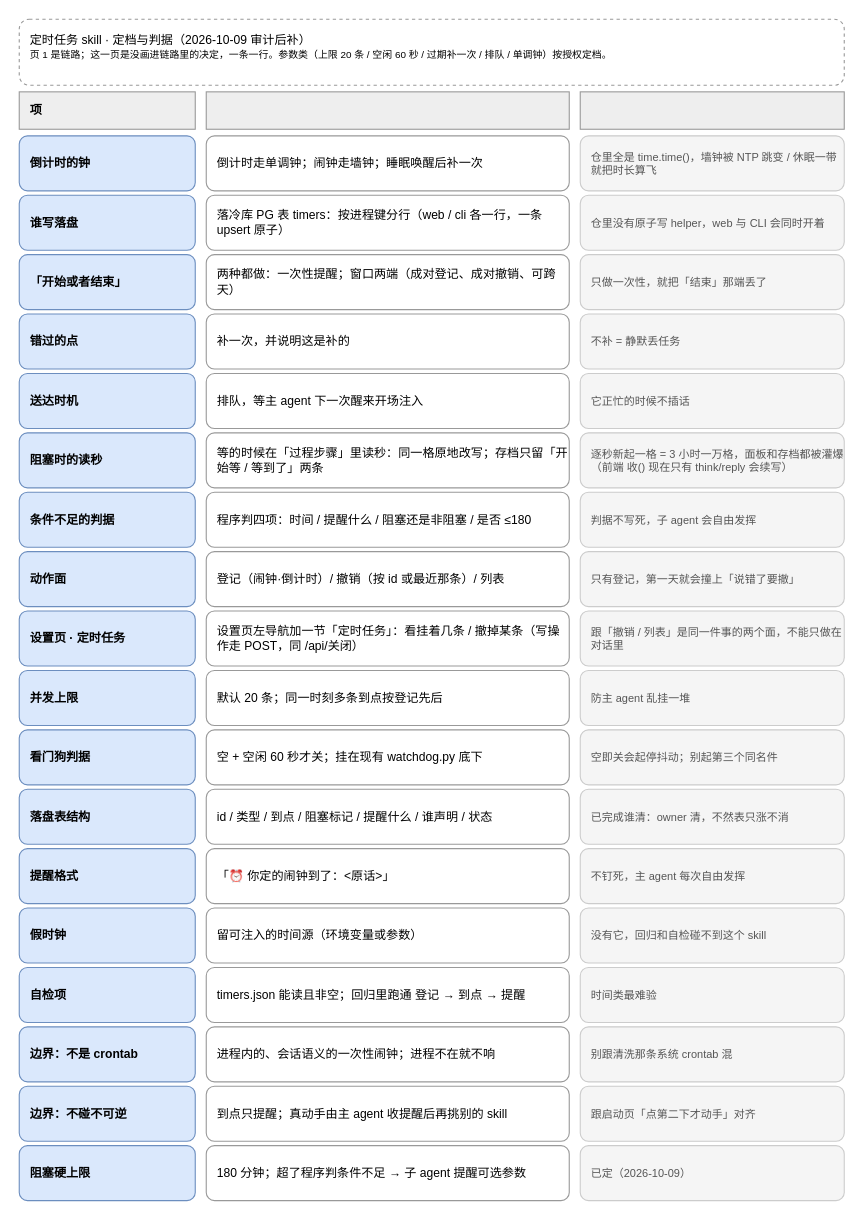
This 864x1220 diagram has some shape labels left out. Here are the shapes that lost their labels. From the top down, the centre of each, then its label:
At pixel 387 110: "定法（判据 / 参数）".
At pixel 711 110: "为什么这么定".
